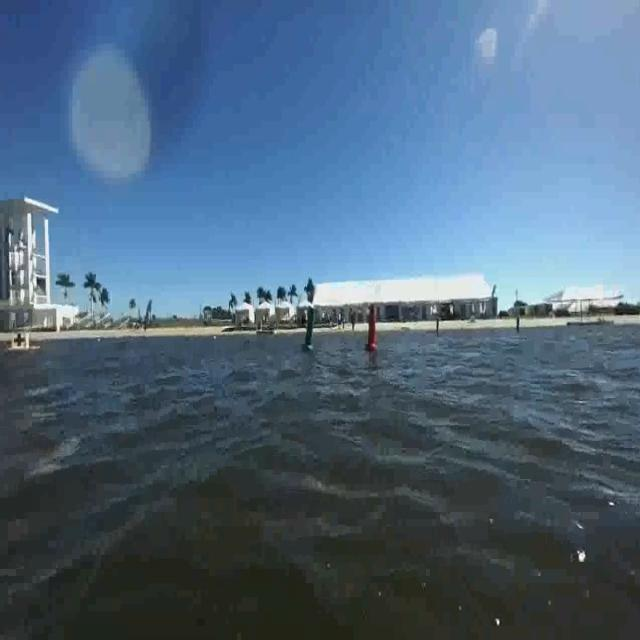green-column-buoy: (300, 307, 315, 354)
red-column-buoy: (363, 307, 379, 355)
